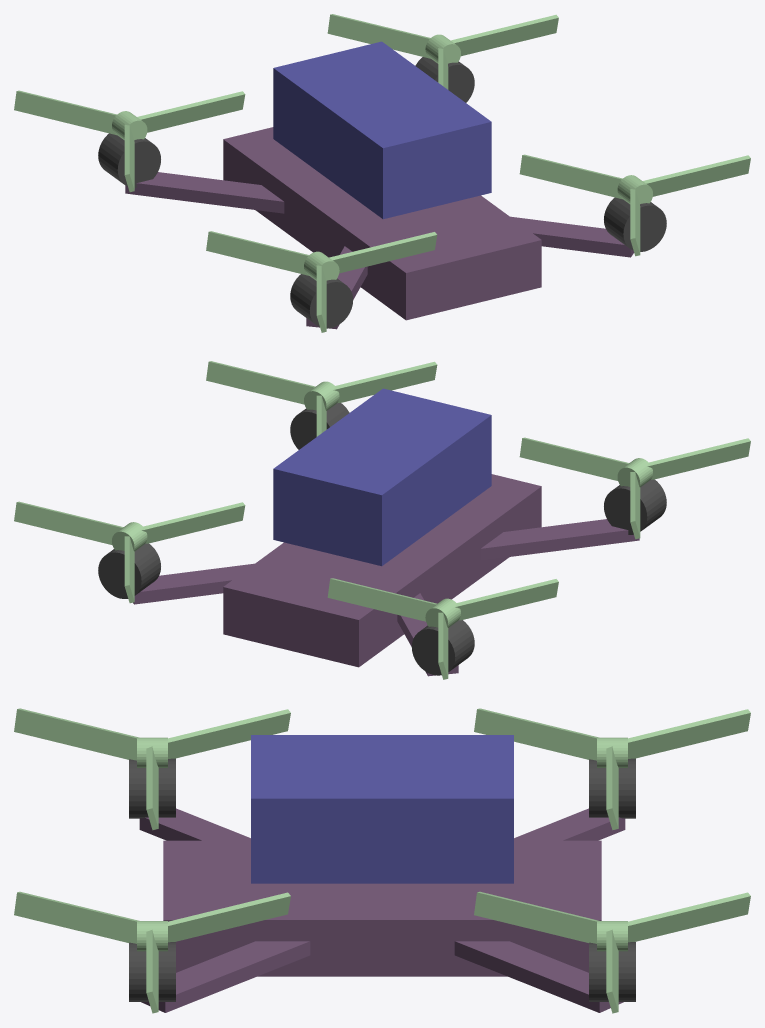
Rendered from BMS JS-1.glb.
3 renders of one model, top to bottom at view 1: azimuth 30°, elevation 25°; view 2: azimuth 150°, elevation 25°; view 3: azimuth 270°, elevation 25°, orthographic. The views are drawn at different scales.
Parts seen in each view (by area): view 1: battery, frame_body, prop_0, prop_2, prop_3, prop_1, arm_3, arm_0, motor_2, motor_0, motor_3, motor_1 (+1 smaller); view 2: battery, frame_body, prop_3, prop_2, prop_1, prop_0, arm_2, arm_1, motor_1, motor_3, motor_2, motor_0 (+1 smaller); view 3: battery, frame_body, prop_1, prop_0, prop_2, prop_3, arm_1, arm_0, arm_2, arm_3, motor_0, motor_1 (+2 smaller).
Boxes of the visible parts, x1,y1,x2,y2 form: battery: (273,41,491,219); frame_body: (223,127,541,320); prop_0: (519,154,750,256); prop_2: (206,231,437,332); prop_3: (14,90,245,192); prop_1: (327,14,558,89); arm_3: (125,172,284,213); arm_0: (510,216,634,257); motor_2: (290,274,353,328); motor_0: (604,197,666,251); motor_3: (98,133,160,187); motor_1: (415,57,474,102); battery: (273,388,491,566); frame_body: (223,474,541,667); prop_3: (327,578,558,679); prop_2: (519,437,750,539); prop_1: (14,501,245,603); prop_0: (206,361,437,436); arm_2: (480,519,639,560); arm_1: (133,563,254,604); motor_1: (98,543,160,598); motor_3: (411,620,474,675); motor_2: (604,479,666,534); motor_0: (290,403,349,449); battery: (251,735,513,883); frame_body: (163,840,601,976); prop_1: (474,891,750,1013); prop_0: (14,891,290,1013); prop_2: (14,708,290,830); prop_3: (474,708,750,830); arm_1: (454,941,623,1012); arm_0: (141,941,310,1012); arm_2: (139,808,250,840); arm_3: (514,808,625,840); motor_0: (129,942,175,1001); motor_1: (589,942,635,1001).
Size of the model in its own units: 0.2153 by 0.06 by 0.2355.
